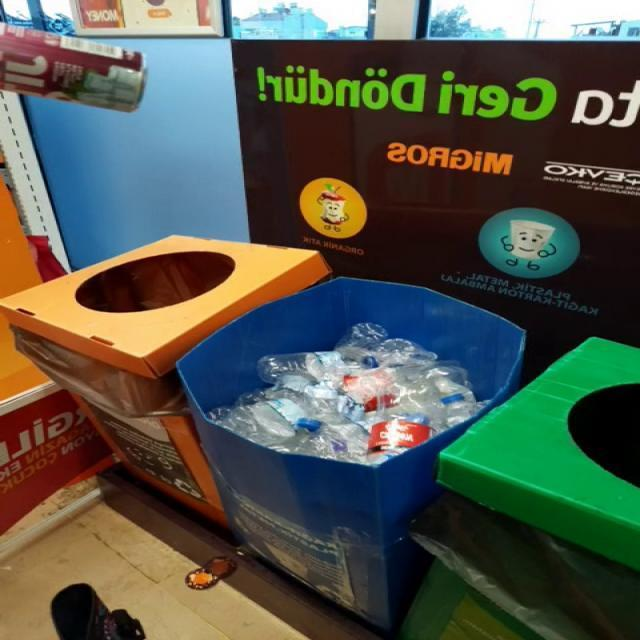Other: (0, 220, 504, 236), (0, 2, 312, 12)
